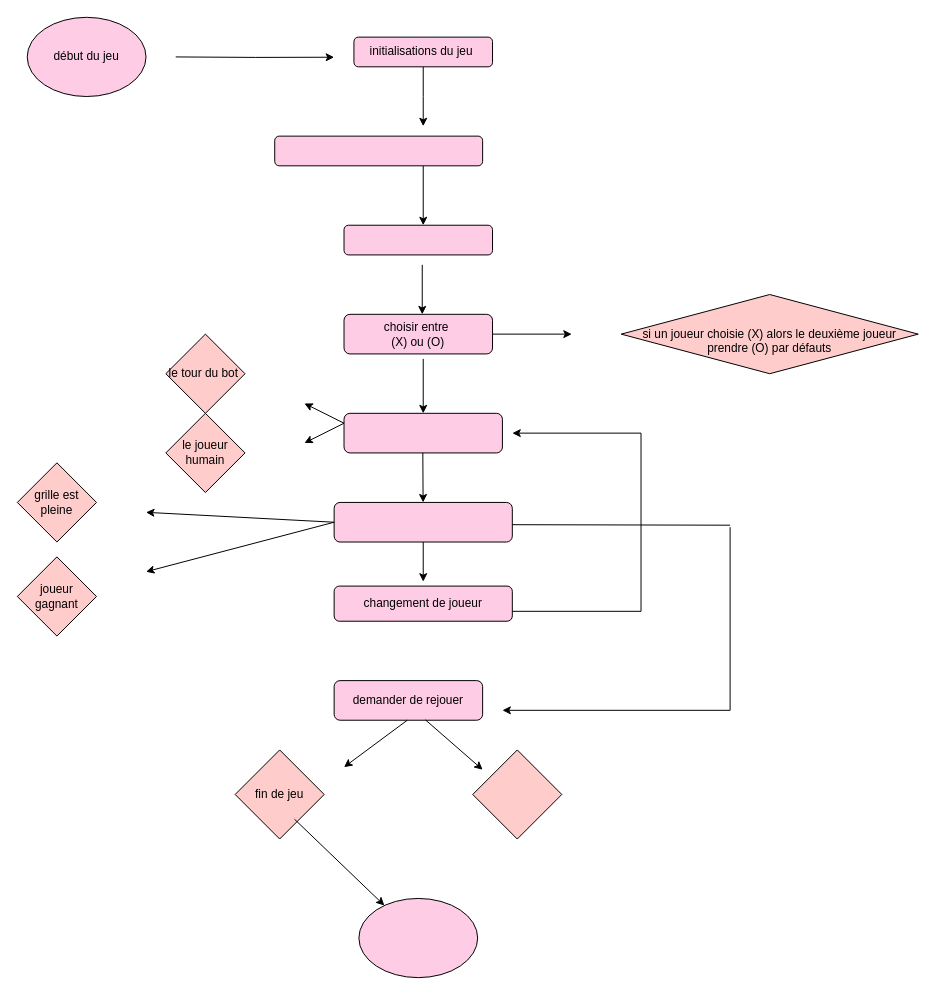
Some shapes in this 936 by 995 pixel diagram are drawn without their labels. The shapes that lost their labels are listed below. From the top down, each one's centre as x and y in pixels, then its label:
At (378,150): "choix du mode de jeu (joueur vs bot ou joueur vs joueur)".
At (418,239): "affichage de la grille".
At (422,432): "vérifier le tour du joueur ou du bot".
At (422,521): "vérifier la fin du jeu".
At (517,794): "recommencer le jeu".
At (418,937): "le jeu est terminer".
